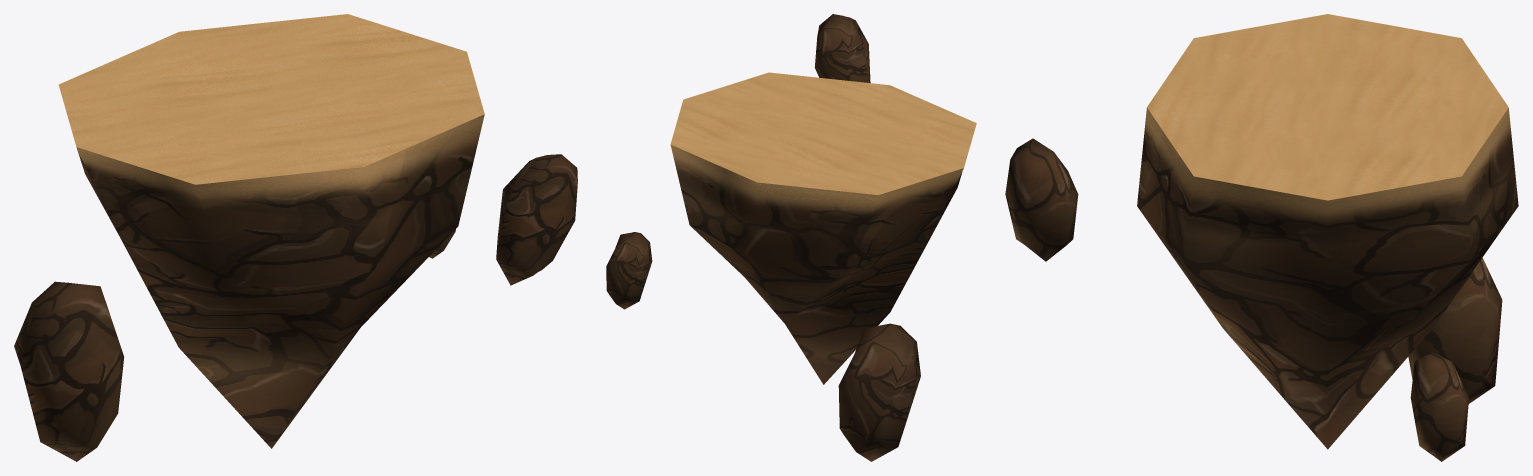
Rendered from platform.obj.
3 renders of one model, left to right at view 1: azimuth 30°, elevation 25°; view 2: azimuth 150°, elevation 25°; view 3: azimuth 270°, elevation 25°, orthographic. The views are drawn at different scales.
Visible parts, largest first — view 1: Mesh_1, Mesh_0; view 2: Mesh_1, Mesh_0; view 3: Mesh_1, Mesh_0.
Boxes of the visible parts, bbox=[...] form: Mesh_1: bbox=[14, 114, 577, 461]; Mesh_0: bbox=[58, 14, 484, 184]; Mesh_1: bbox=[606, 14, 963, 461]; Mesh_0: bbox=[670, 72, 976, 195]; Mesh_1: bbox=[1005, 108, 1518, 461]; Mesh_0: bbox=[1147, 14, 1508, 200].
Bounding box in the file's own units: 11.07 × 9.76 × 11.55.
Materials: 2 (2 with a texture image).
